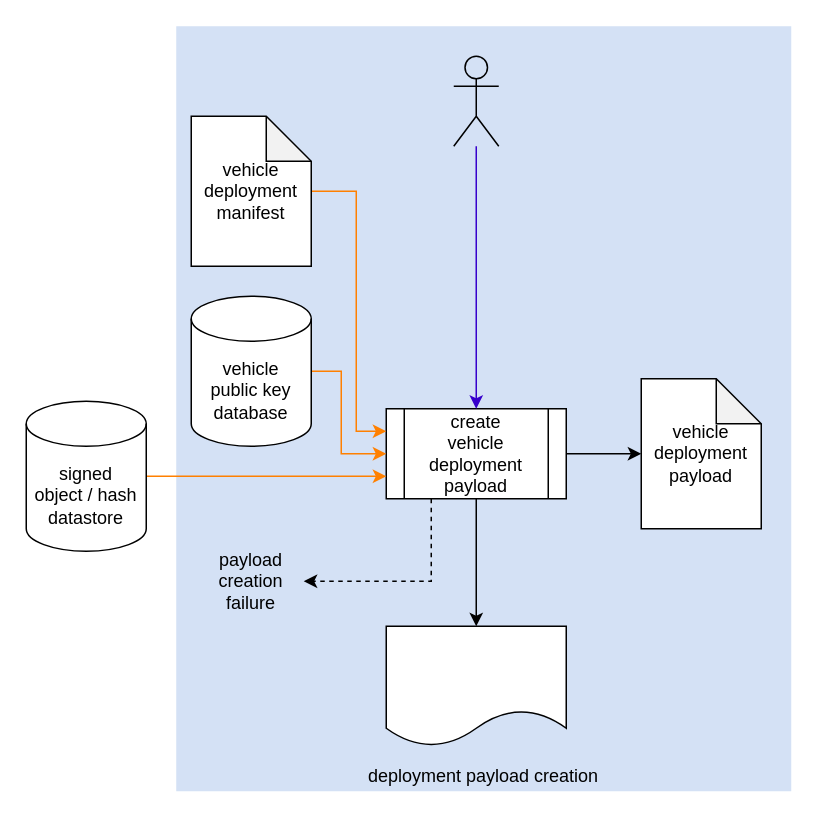
Image size: 818x816. Some labels were removed from this diagram. Each missing label, with the centre of its shape:
devops SME: the point at 475,100
vehicle deployment payload creation report: the point at 475,685
